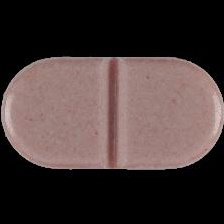69452-128: (0, 0, 224, 224)
